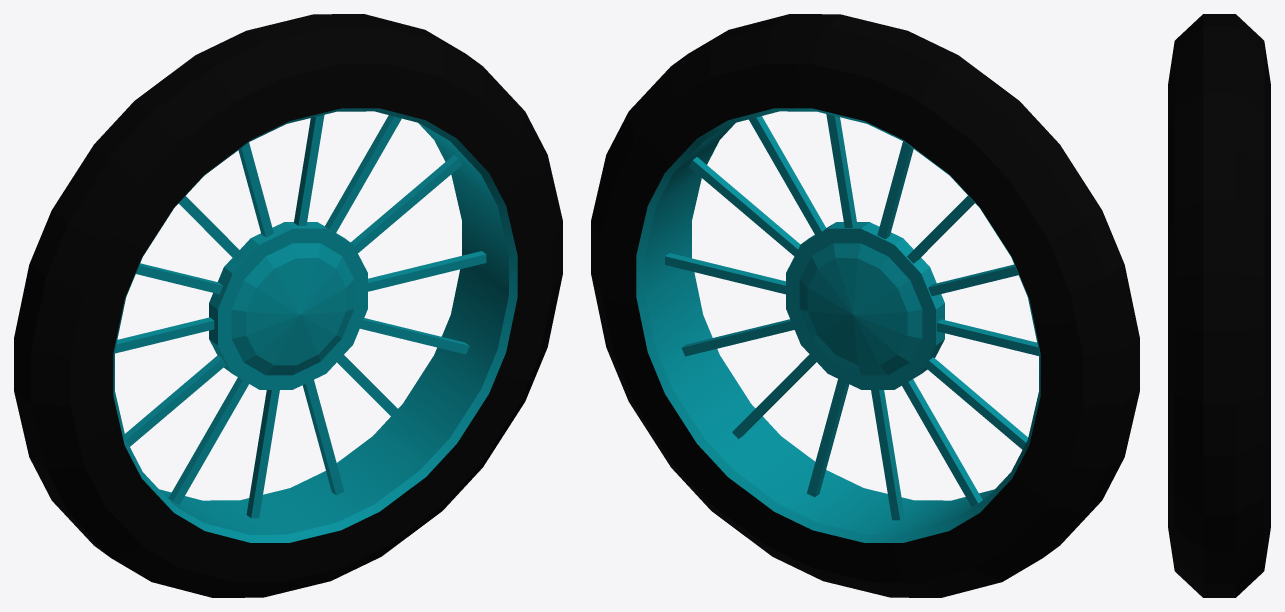
The model's file is wheel19.fbx.
3 views of the same model, side by side, from view 1: azimuth 30°, elevation 25°; view 2: azimuth 150°, elevation 25°; view 3: azimuth 270°, elevation 25° (orthographic). The views are drawn at different scales.
Parts seen in each view (by area): view 1: lanot_wheel18_L; view 2: lanot_wheel18_L; view 3: lanot_wheel18_L.
Part boxes in pixels (box(x1,y1,x2,y2)): lanot_wheel18_L: box(14, 14, 562, 597); lanot_wheel18_L: box(591, 14, 1139, 597); lanot_wheel18_L: box(1168, 14, 1270, 597).
Bounding box in the file's own units: 142 × 142 × 24.95.
